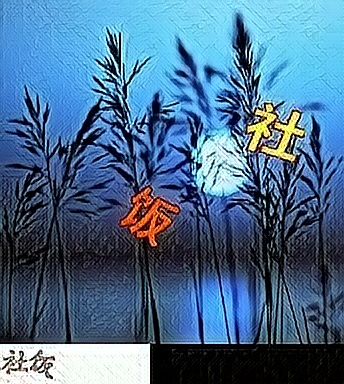B7B9: (117, 184, 181, 251)
C9E7: (243, 97, 307, 164)
